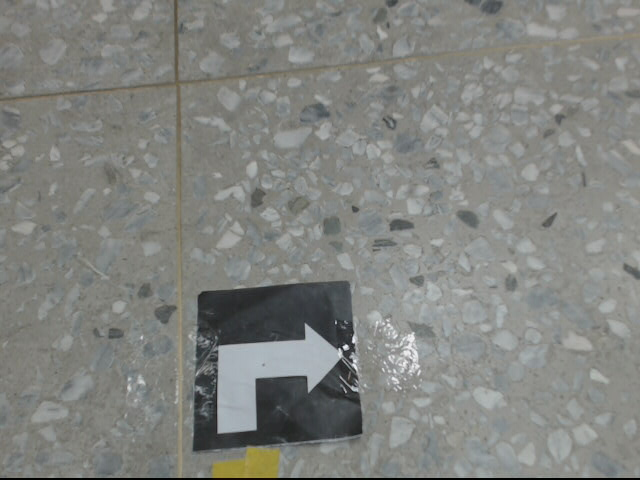right: (192, 280, 369, 451)
